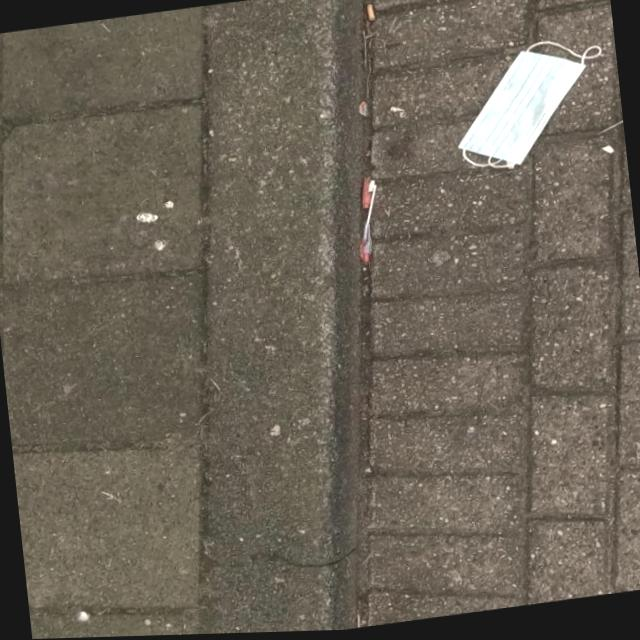Mask: (444, 34, 614, 178)
